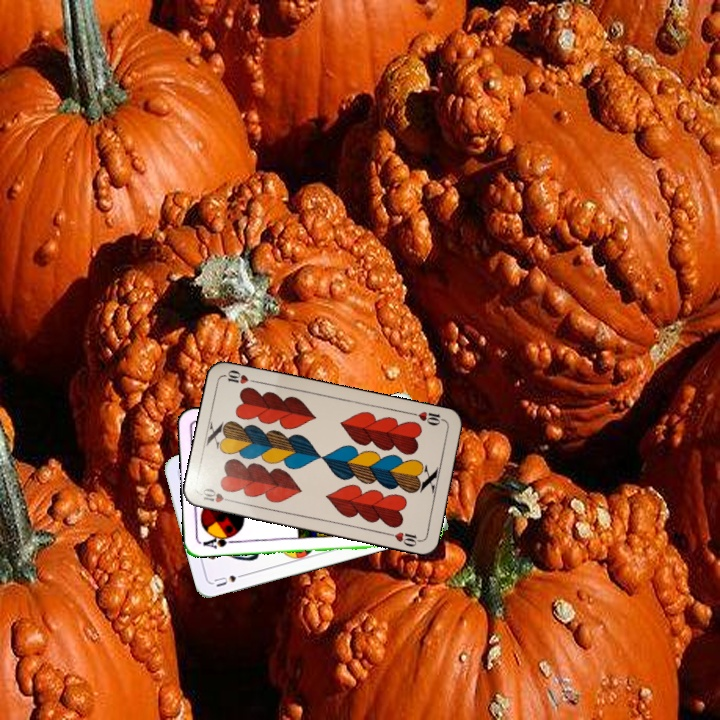H10: (197, 484, 237, 505), (407, 407, 447, 428)
SA: (199, 531, 239, 551)
SU: (210, 569, 250, 589)
